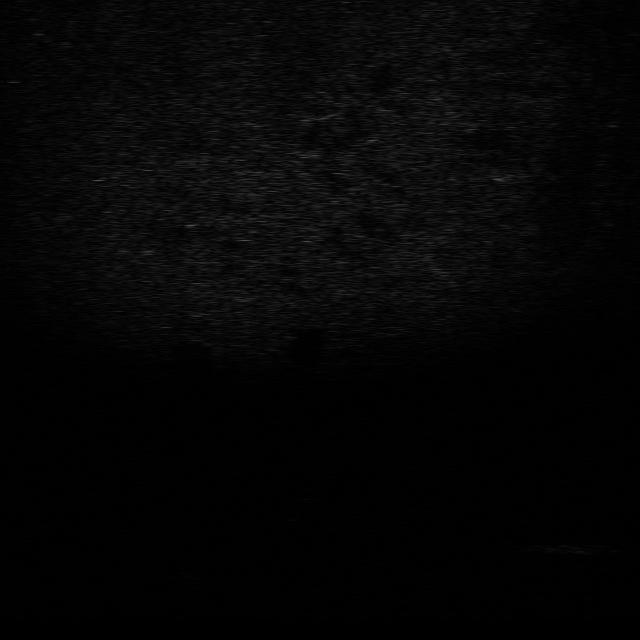ball: (287, 482, 325, 505)
metal bucket: (532, 538, 622, 561)
tyre: (171, 551, 224, 582)
